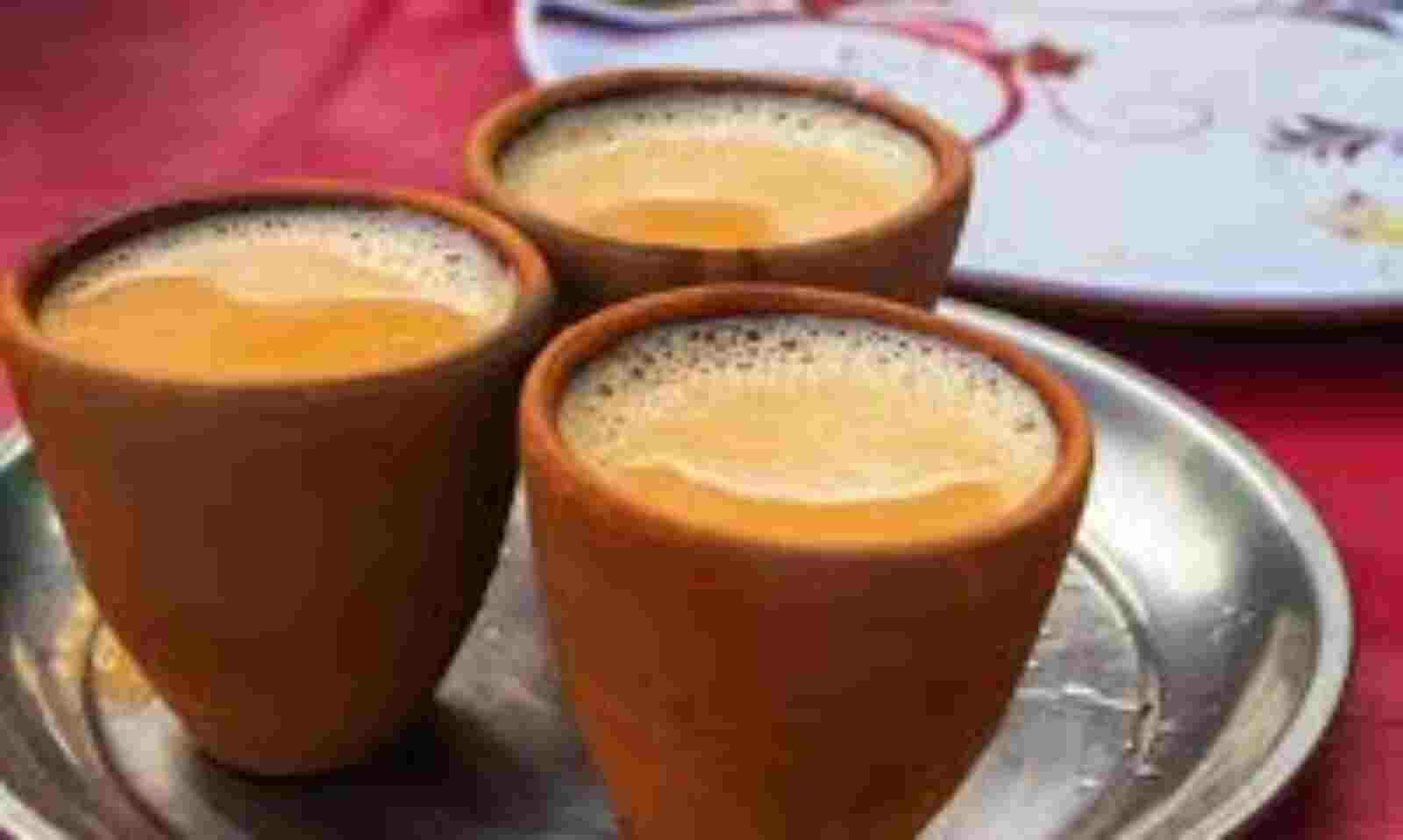Chai: (560, 308, 1071, 536), (34, 198, 513, 391), (494, 71, 944, 259)
